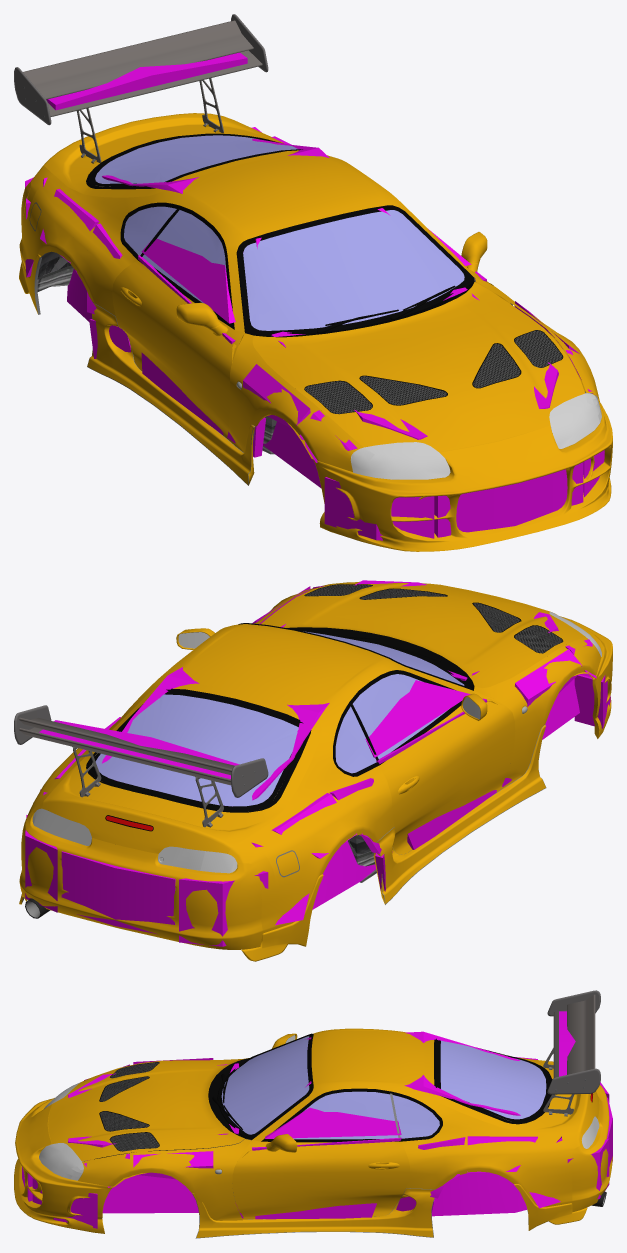
Rendered from Supra_Toyota2_1.fbx.
3 views of the same model, one above another, from view 1: azimuth 30°, elevation 25°; view 2: azimuth 150°, elevation 25°; view 3: azimuth 270°, elevation 25° (orthographic). The views are drawn at different scales.
Visible parts, largest first — view 1: base, pasted__polySurface1753, model_9:Mesh1, pasted__polySurface1093, pasted__polySurface160, polySurface203, pasted__polySurface89, pasted__BumperRCol2, polySurface64, pasted__polySurface1752, polySurface193, SpoilerCol (+9 smaller); view 2: base, pasted__polySurface1093, pasted__polySurface1752, pasted__polySurface97, polySurface203, pasted__polySurface160, BumperRCol2, pasted__polySurface89, pasted__pasted__pasted__BodyCol1, polySurface193, polySurface64, pasted__polySurface1807 (+14 smaller); view 3: base, pasted__polySurface1134, polySurface200, pasted__polySurface1752, model_2:Mesh1, model_9:Mesh1, pasted__polySurface1753, pasted__polySurface160, pasted__pasted__pasted__BodyCol1, pasted__pasted__pasted__BodyCol2, polySurface192, pasted__polySurface97 (+10 smaller).
Boxes of the visible parts, left/top/right/bottom form: base: left=19, top=113, right=599, bottom=485; pasted__polySurface1753: left=243, top=210, right=464, bottom=330; model_9:Mesh1: left=313, top=398, right=612, bottom=551; pasted__polySurface1093: left=112, top=259, right=244, bottom=439; pasted__polySurface160: left=14, top=14, right=268, bottom=163; polySurface203: left=26, top=175, right=133, bottom=315; pasted__polySurface89: left=228, top=333, right=363, bottom=471; pasted__BumperRCol2: left=434, top=462, right=583, bottom=537; polySurface64: left=351, top=393, right=601, bottom=479; pasted__polySurface1752: left=95, top=135, right=298, bottom=183; polySurface193: left=141, top=238, right=235, bottom=323; SpoilerCol: left=46, top=52, right=247, bottom=110; base: left=19, top=581, right=601, bottom=961; pasted__polySurface1093: left=380, top=691, right=515, bottom=854; pasted__polySurface1752: left=95, top=694, right=298, bottom=806; pasted__polySurface97: left=19, top=810, right=262, bottom=949; polySurface203: left=249, top=770, right=394, bottom=928; pasted__polySurface160: left=14, top=705, right=268, bottom=827; BumperRCol2: left=61, top=851, right=175, bottom=934; pasted__polySurface89: left=474, top=636, right=601, bottom=788; pasted__pasted__pasted__BodyCol1: left=102, top=667, right=375, bottom=909; polySurface193: left=365, top=680, right=470, bottom=757; polySurface64: left=32, top=583, right=601, bottom=873; pasted__polySurface1807: left=352, top=674, right=447, bottom=758; base: left=48, top=1028, right=606, bottom=1238; pasted__polySurface1134: left=232, top=1134, right=410, bottom=1219; polySurface200: left=403, top=1132, right=560, bottom=1207; pasted__polySurface1752: left=440, top=1040, right=546, bottom=1119; model_2:Mesh1: left=78, top=1139, right=251, bottom=1220; model_9:Mesh1: left=14, top=1098, right=112, bottom=1233; pasted__polySurface1753: left=221, top=1036, right=309, bottom=1134; pasted__polySurface160: left=543, top=990, right=600, bottom=1116; pasted__pasted__pasted__BodyCol1: left=305, top=1031, right=527, bottom=1216; pasted__pasted__pasted__BodyCol2: left=68, top=1063, right=239, bottom=1213; polySurface192: left=265, top=1107, right=401, bottom=1138; pasted__polySurface97: left=572, top=1085, right=612, bottom=1212.
Size of the model in its own units: 197 by 130 by 453.
